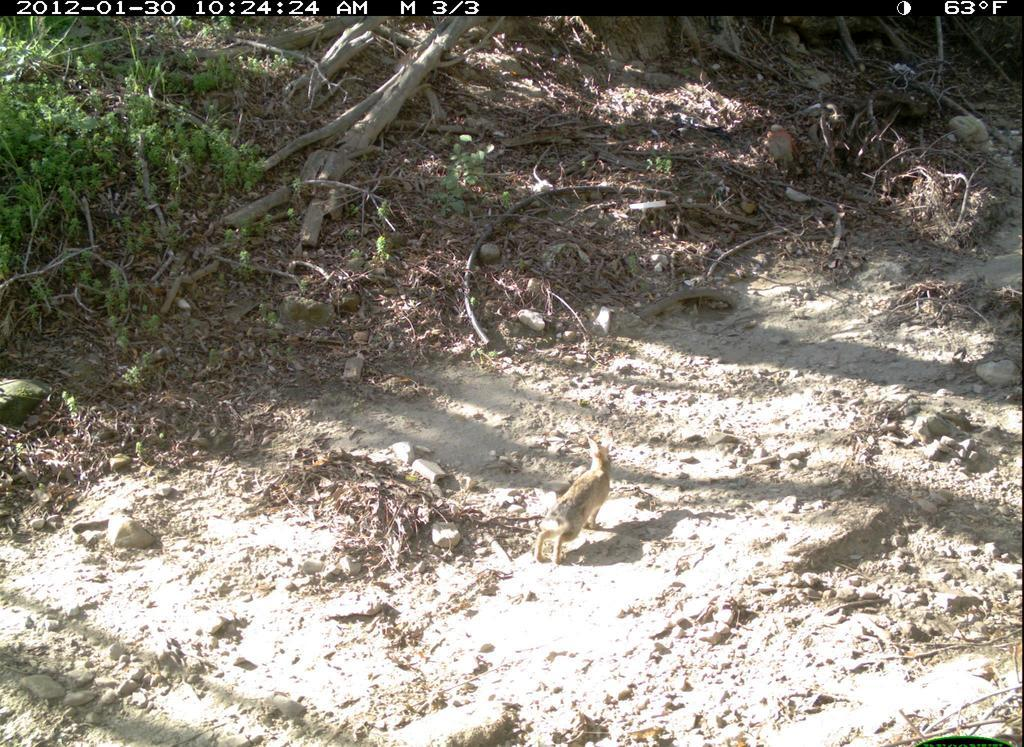rabbit: (530, 434, 619, 574)
